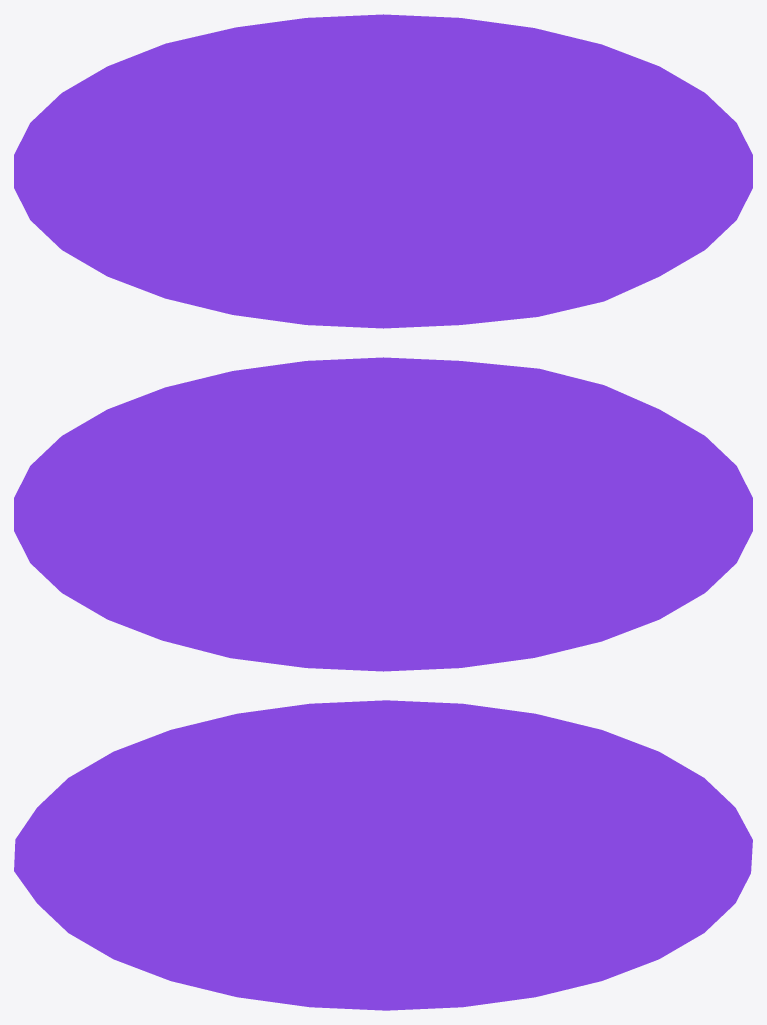
File: rug.fbx
The picture shows the model from 3 angles, top to bottom: view 1: azimuth 30°, elevation 25°; view 2: azimuth 150°, elevation 25°; view 3: azimuth 270°, elevation 25°; orthographic projection.
Visible parts, largest first — view 1: RugMiddle:PlayAreaRug; view 2: RugMiddle:PlayAreaRug; view 3: RugMiddle:PlayAreaRug.
Part boxes in pixels (box(x1,y1,x2,y2)): RugMiddle:PlayAreaRug: box(14, 14, 752, 328); RugMiddle:PlayAreaRug: box(14, 357, 752, 671); RugMiddle:PlayAreaRug: box(14, 700, 752, 1010).
Size of the model in its own units: 62.69 by 0.000147 by 63.08.
